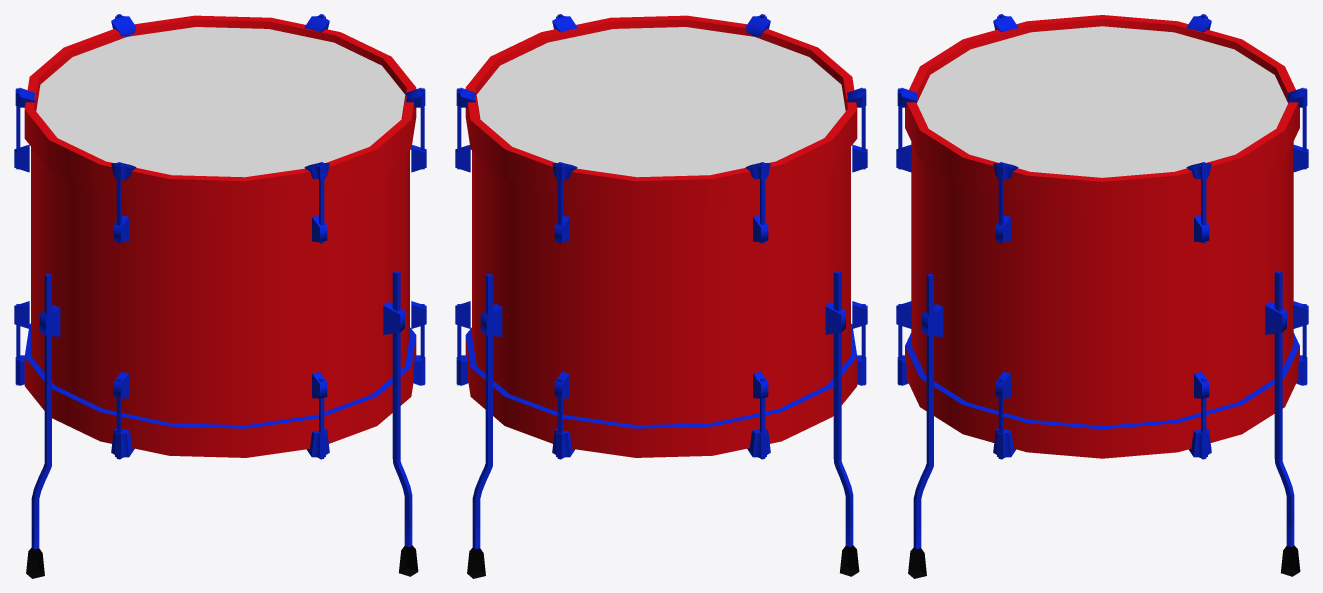
File: Drumkit_Floor_LP.fbx
3 views of the same model, side by side, from view 1: azimuth 30°, elevation 25°; view 2: azimuth 150°, elevation 25°; view 3: azimuth 270°, elevation 25° (orthographic).
Parts seen in each view (by area): view 1: FloorTom_LP; view 2: FloorTom_LP; view 3: FloorTom_LP.
Part boxes in pixels (x1,y1,x2,y2): FloorTom_LP: (14,14,426,578); FloorTom_LP: (455,14,867,578); FloorTom_LP: (896,14,1308,578).
Bounding box in the file's own units: 4248 × 4896 × 4169.
